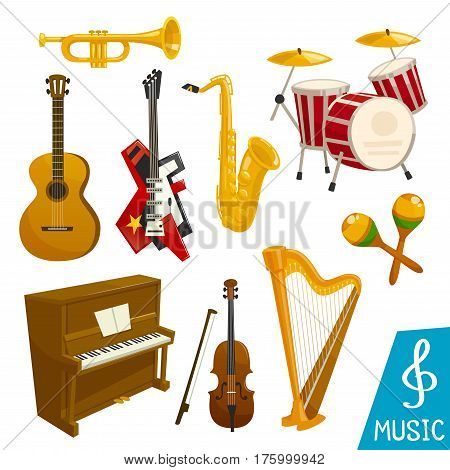Piano: (11, 272, 191, 439)
Saxophone: (175, 58, 301, 264)
Violin: (155, 271, 270, 451)
